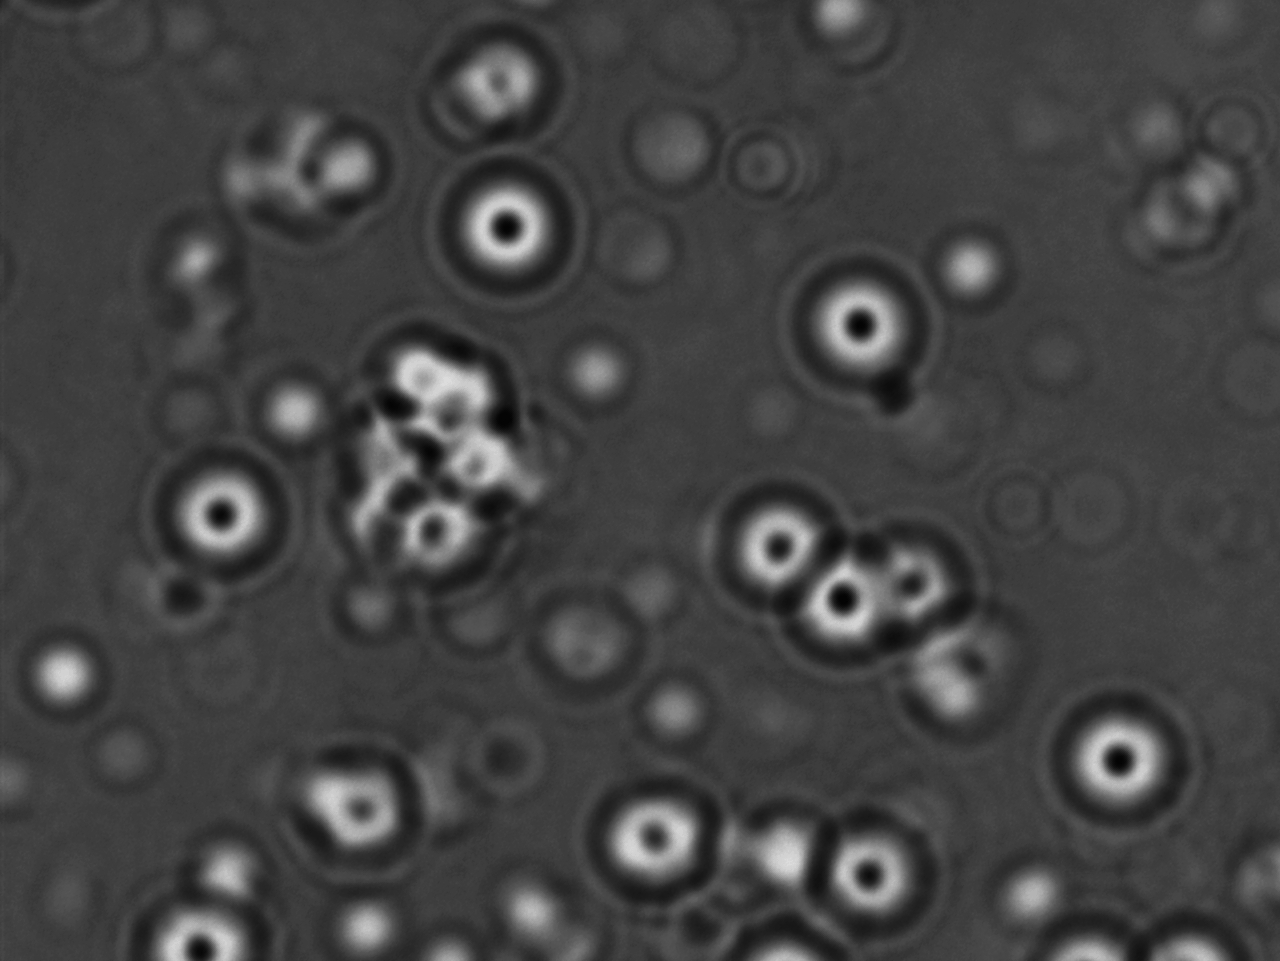depth:24: (433, 156, 595, 321), (787, 243, 942, 401), (152, 442, 307, 579), (708, 470, 850, 610), (1049, 683, 1183, 817), (815, 802, 946, 930), (597, 780, 719, 901), (793, 547, 905, 661), (130, 898, 272, 961)
